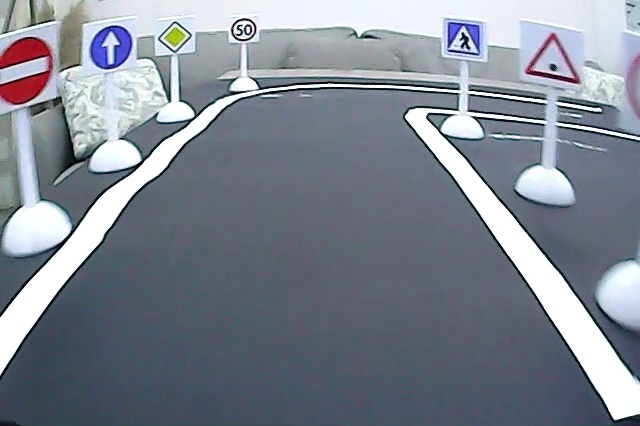do not enter: (1, 34, 61, 108)
green light: (521, 26, 581, 83)
pedestrian crossing: (443, 20, 483, 56)
speed limit 50: (229, 18, 258, 41)
